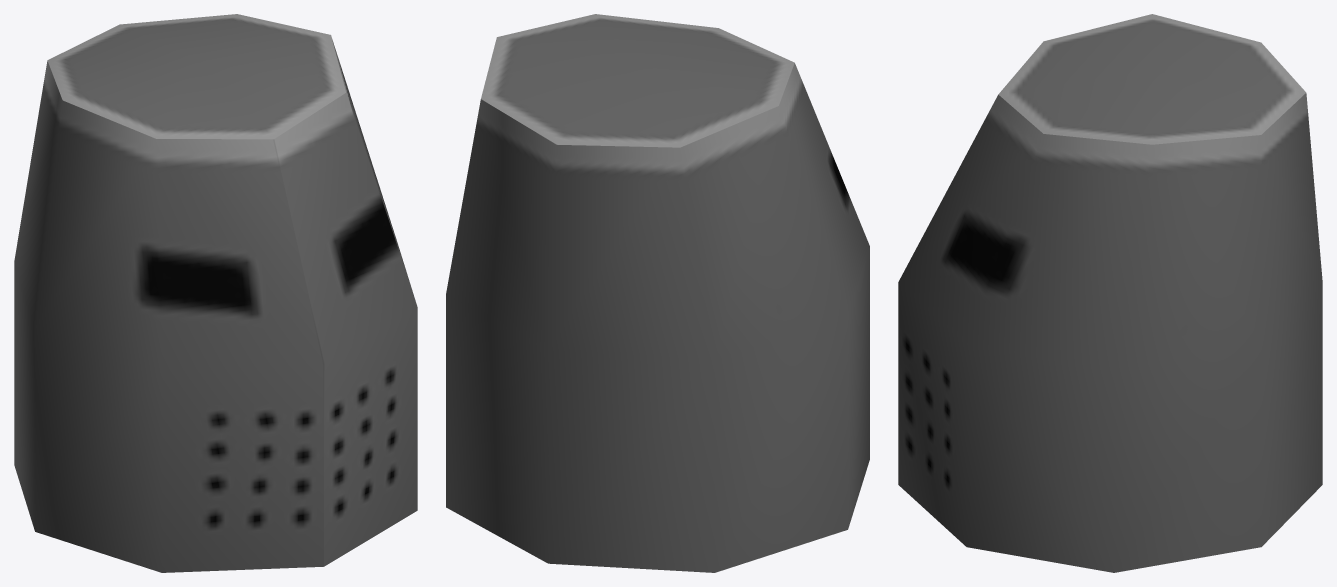
File: Helmet.FBX
3 views of the same model, side by side, from view 1: azimuth 30°, elevation 25°; view 2: azimuth 150°, elevation 25°; view 3: azimuth 270°, elevation 25° (orthographic). The views are drawn at different scales.
Parts seen in each view (by area): view 1: Helmet1; view 2: Helmet1; view 3: Helmet1.
Boxes of the visible parts, x1,y1,x2,y2 form: Helmet1: (14, 14, 417, 572); Helmet1: (446, 14, 869, 572); Helmet1: (898, 14, 1322, 572).
Size of the model in its own units: 28 by 28.48 by 30.65.
Materials: 1 (1 with a texture image).
